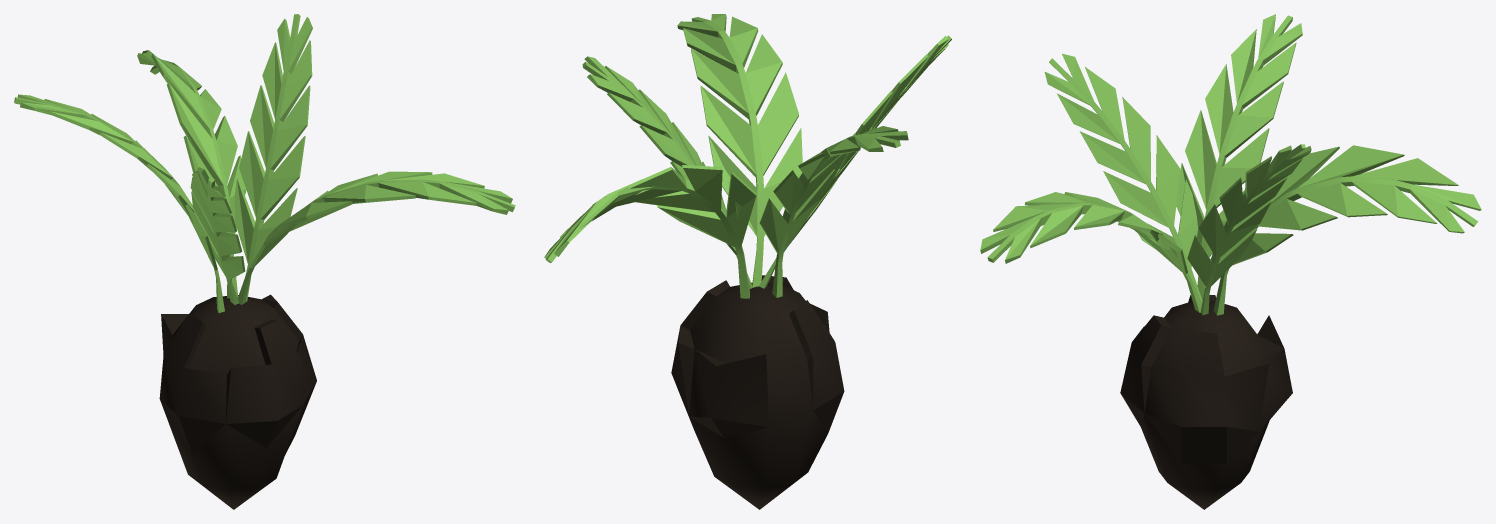
Rendered from tree1.FBX.
The picture shows the model from 3 angles, left to right: view 1: azimuth 30°, elevation 25°; view 2: azimuth 150°, elevation 25°; view 3: azimuth 270°, elevation 25°; orthographic projection. The views are drawn at different scales.
Visible parts, largest first — view 1: tree1; view 2: tree1; view 3: tree1.
Boxes of the visible parts, left/top/right/bottom form: tree1: left=14, top=14, right=515, bottom=509; tree1: left=544, top=14, right=951, bottom=509; tree1: left=980, top=14, right=1481, bottom=509.
Bounding box in the file's own units: 48.27 × 56.27 × 60.81.
